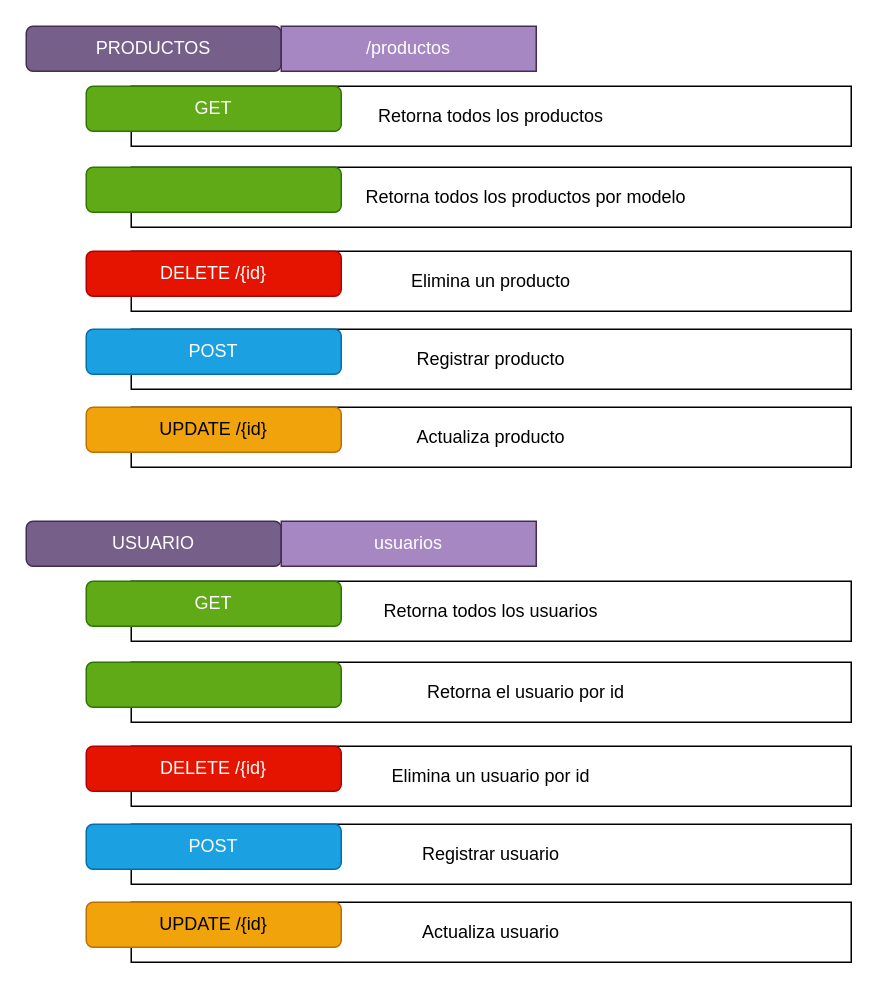
Some shapes in this 878 by 989 pixel diagram are drawn without their labels. The shapes that lost their labels are listed below. From the top down, each one's centre as x and y in pixels, then its label:
(x=213, y=189): GET /model/{model}
(x=213, y=684): GET /{id}
